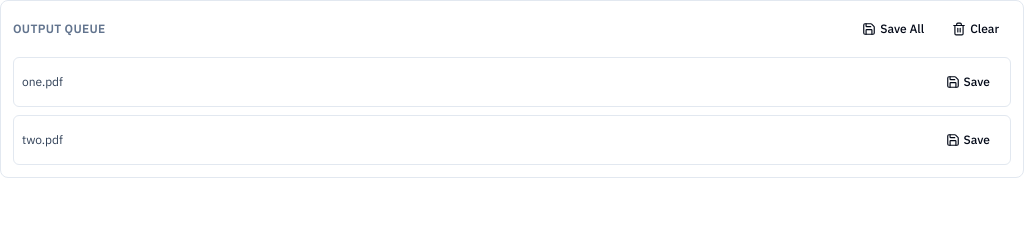
Scenario: MacroOutputQueue › stops Save All on failure, preserves queue, and reports the error
The width and height of the screenshot is (1024, 233).
Click the button "Save All" at (893, 29), box [850, 13, 936, 45]
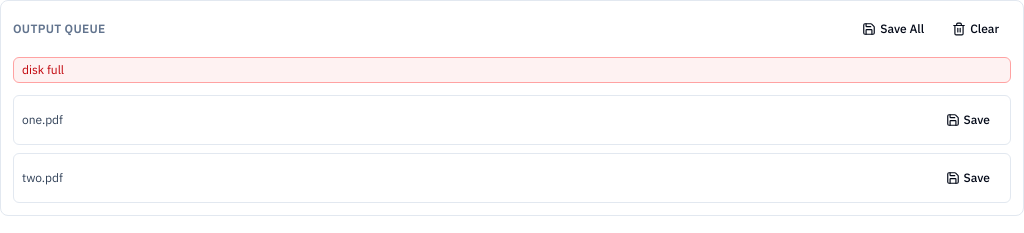
expect the message reads "disk full": met, box [22, 62, 64, 77]
